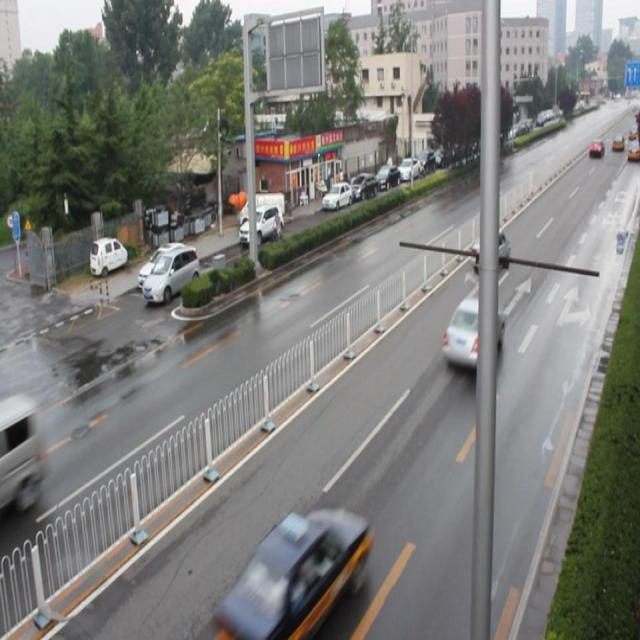car: (220, 505, 368, 632), (443, 294, 502, 376), (470, 229, 510, 277)
truck: (1, 391, 45, 522)
